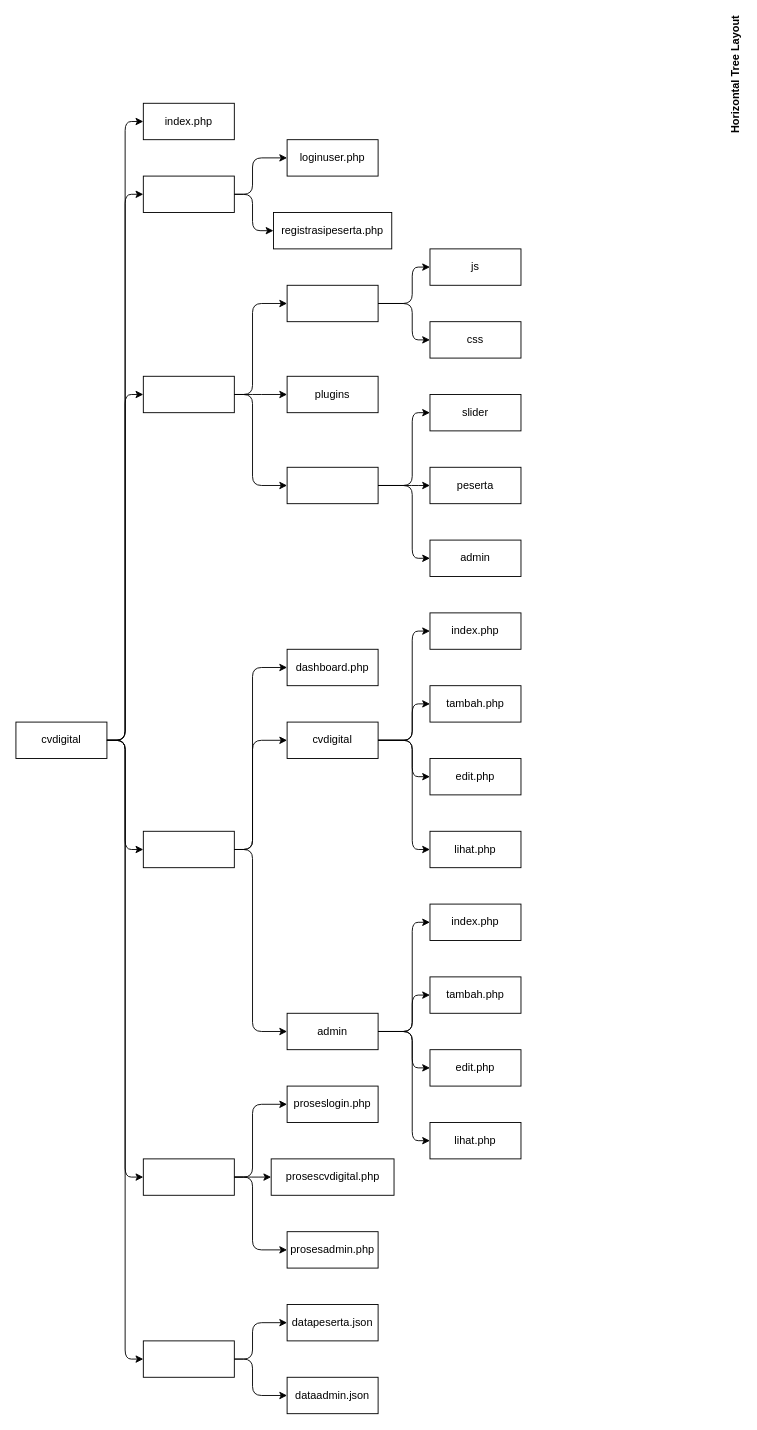
This 757x1430 diagram has some shape labels left out. The shapes that lost their labels are listed below. From the top down, each one's box as (x1, y1, x2, y2) in pixels, then its label:
(142, 175, 234, 212): auth
(286, 284, 378, 322): dist
(142, 375, 234, 413): assets
(286, 466, 378, 504): image
(142, 830, 234, 868): pages
(142, 1158, 234, 1195): proses
(142, 1340, 234, 1377): data
